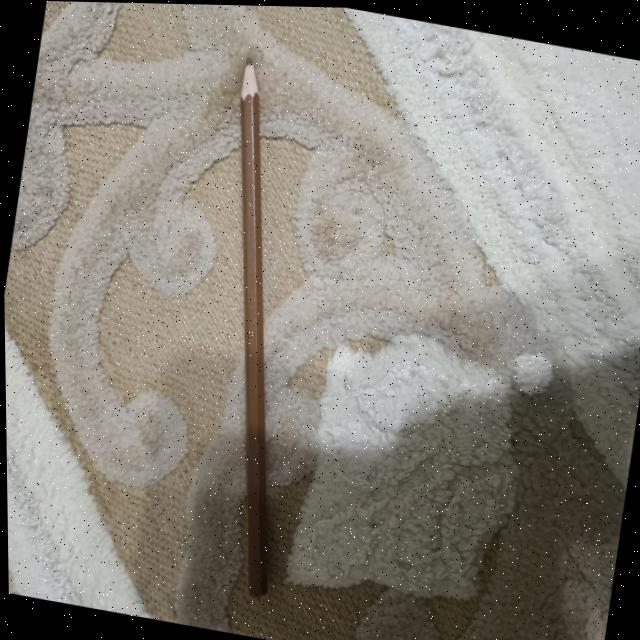pencil: (240, 57, 266, 596)
